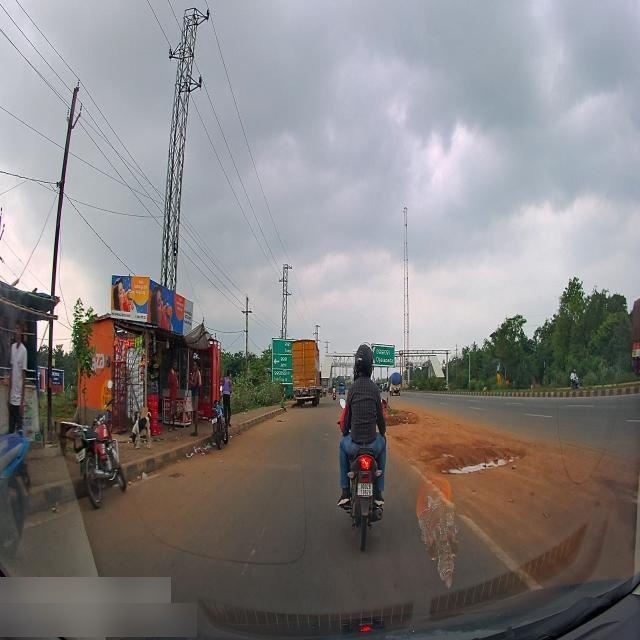pothole: (442, 452, 524, 484)
